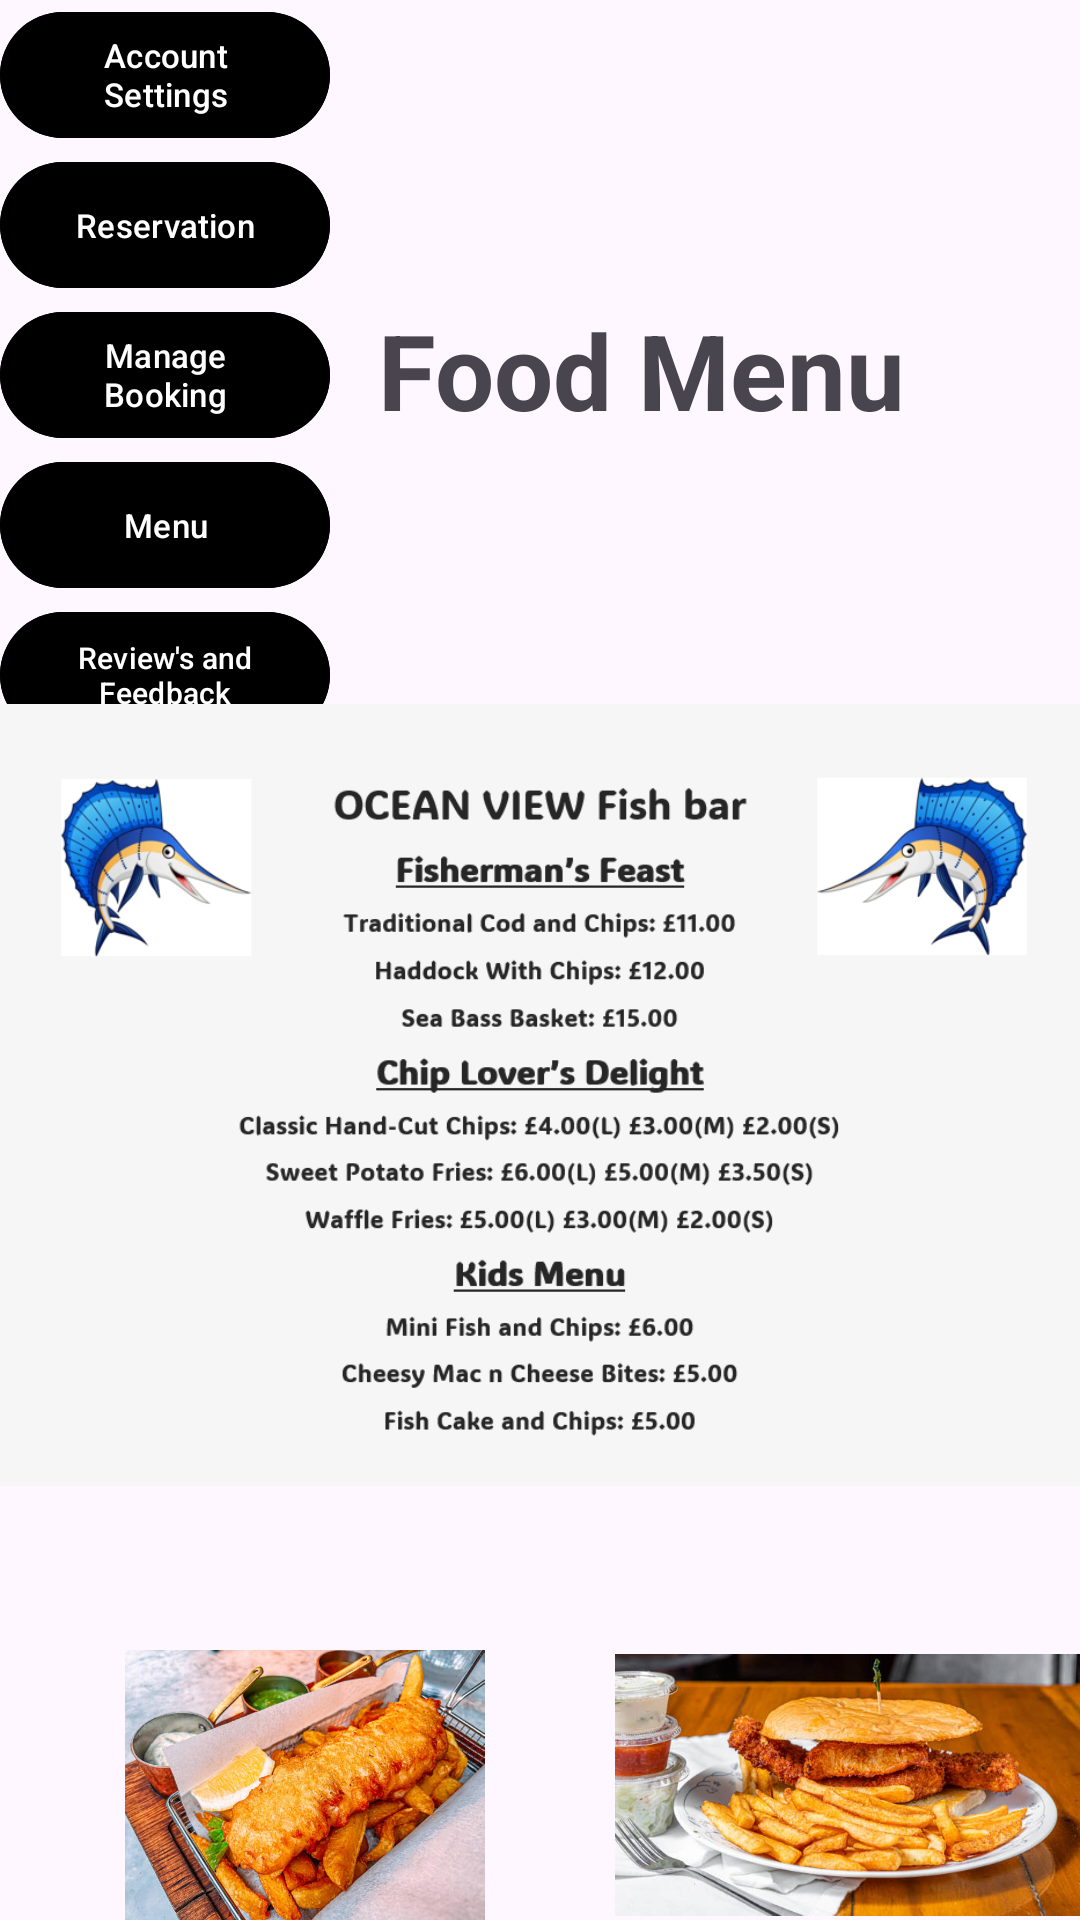

Icon bounding boxes for this 1080 × 1920 phone screenshot, format rect(x1, y1, x2, y2):
fishandchipphoto: rect(125, 1650, 485, 1920)
